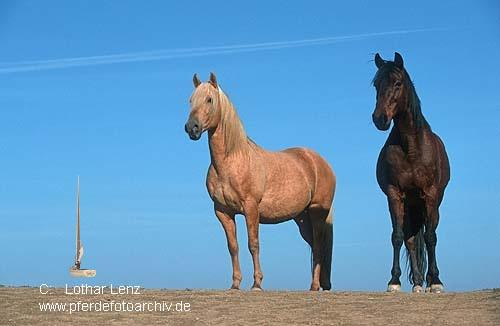tampered: (70, 176, 96, 277)
